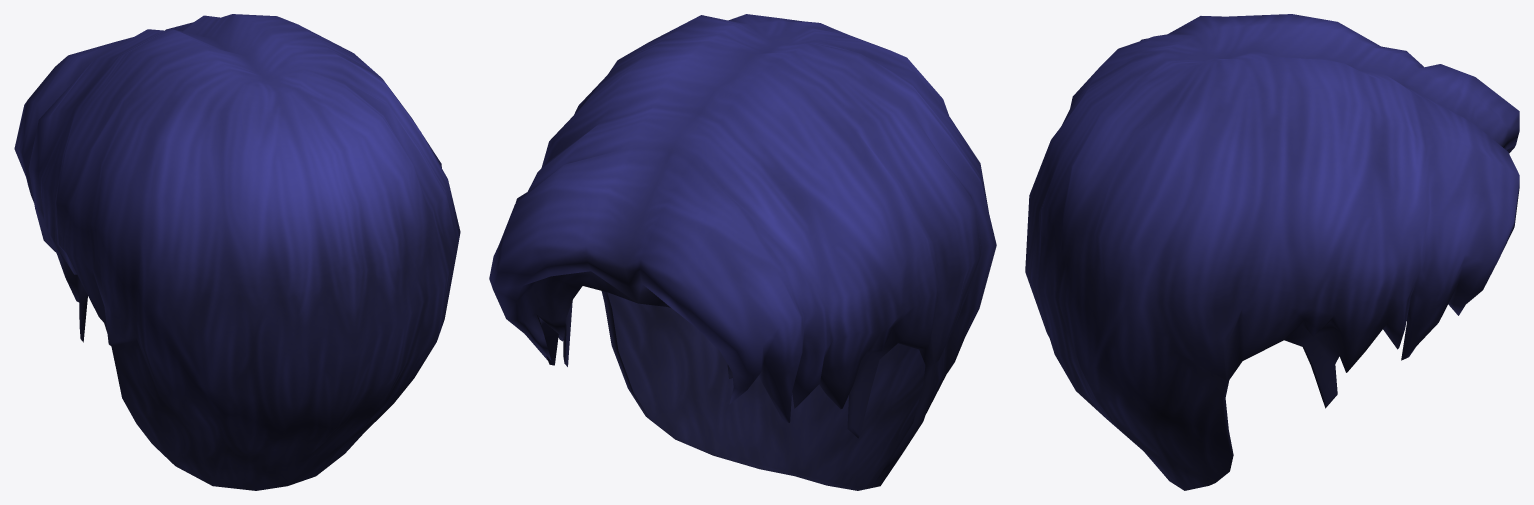
Rendered from Hair_Male_006_textured_blue.glb.
3 views of the same model, side by side, from view 1: azimuth 30°, elevation 25°; view 2: azimuth 150°, elevation 25°; view 3: azimuth 270°, elevation 25° (orthographic). The views are drawn at different scales.
Parts seen in each view (by area): view 1: Hair_Male_006; view 2: Hair_Male_006; view 3: Hair_Male_006.
Boxes of the visible parts, x1=… form: Hair_Male_006: x1=14, y1=14, x2=460, y2=490; Hair_Male_006: x1=489, y1=14, x2=996, y2=490; Hair_Male_006: x1=1025, y1=14, x2=1519, y2=490.
Size of the model in its own units: 0.195 by 0.2308 by 0.2425.
1 material, 1 textured.
